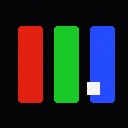1 square: (87, 82, 99, 94)
